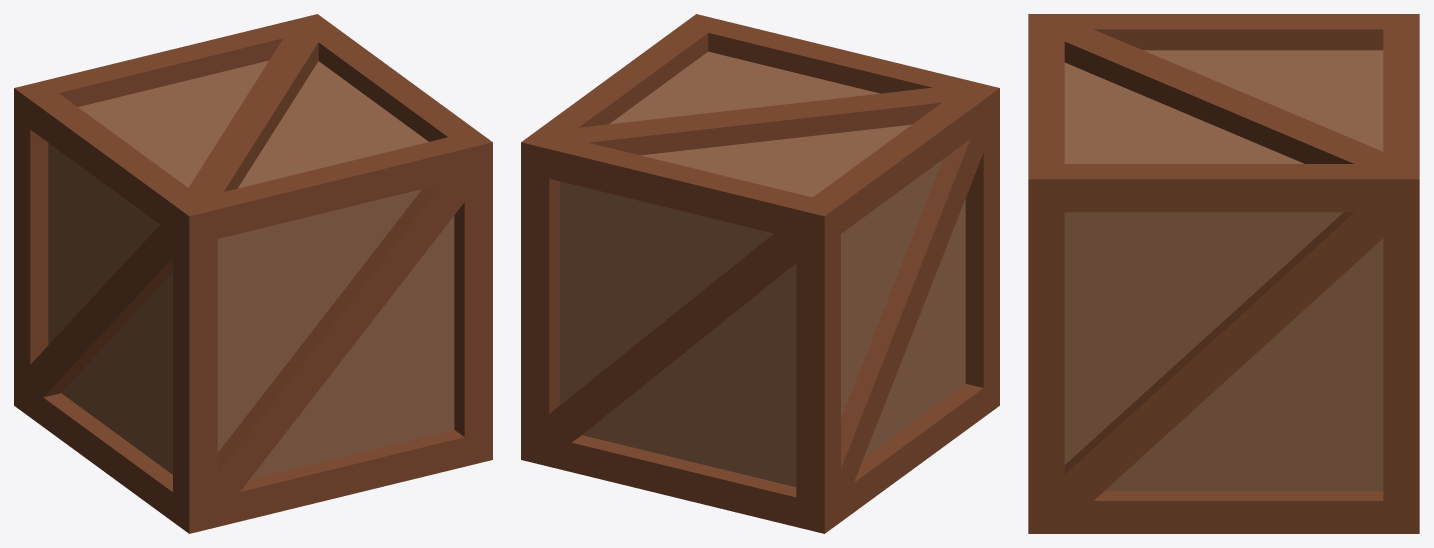
Rendered from Environment2_Cover_Crate.fbx.
3 views of the same model, side by side, from view 1: azimuth 30°, elevation 25°; view 2: azimuth 150°, elevation 25°; view 3: azimuth 270°, elevation 25° (orthographic). The views are drawn at different scales.
Visible parts, largest first — view 1: Crate Wood; view 2: Crate Wood; view 3: Crate Wood.
Boxes of the visible parts, <box> form: Crate Wood: <box>14,14,492,533</box>; Crate Wood: <box>521,14,999,533</box>; Crate Wood: <box>1028,14,1419,533</box>.
Bounding box in the file's own units: 2 × 2 × 2.
